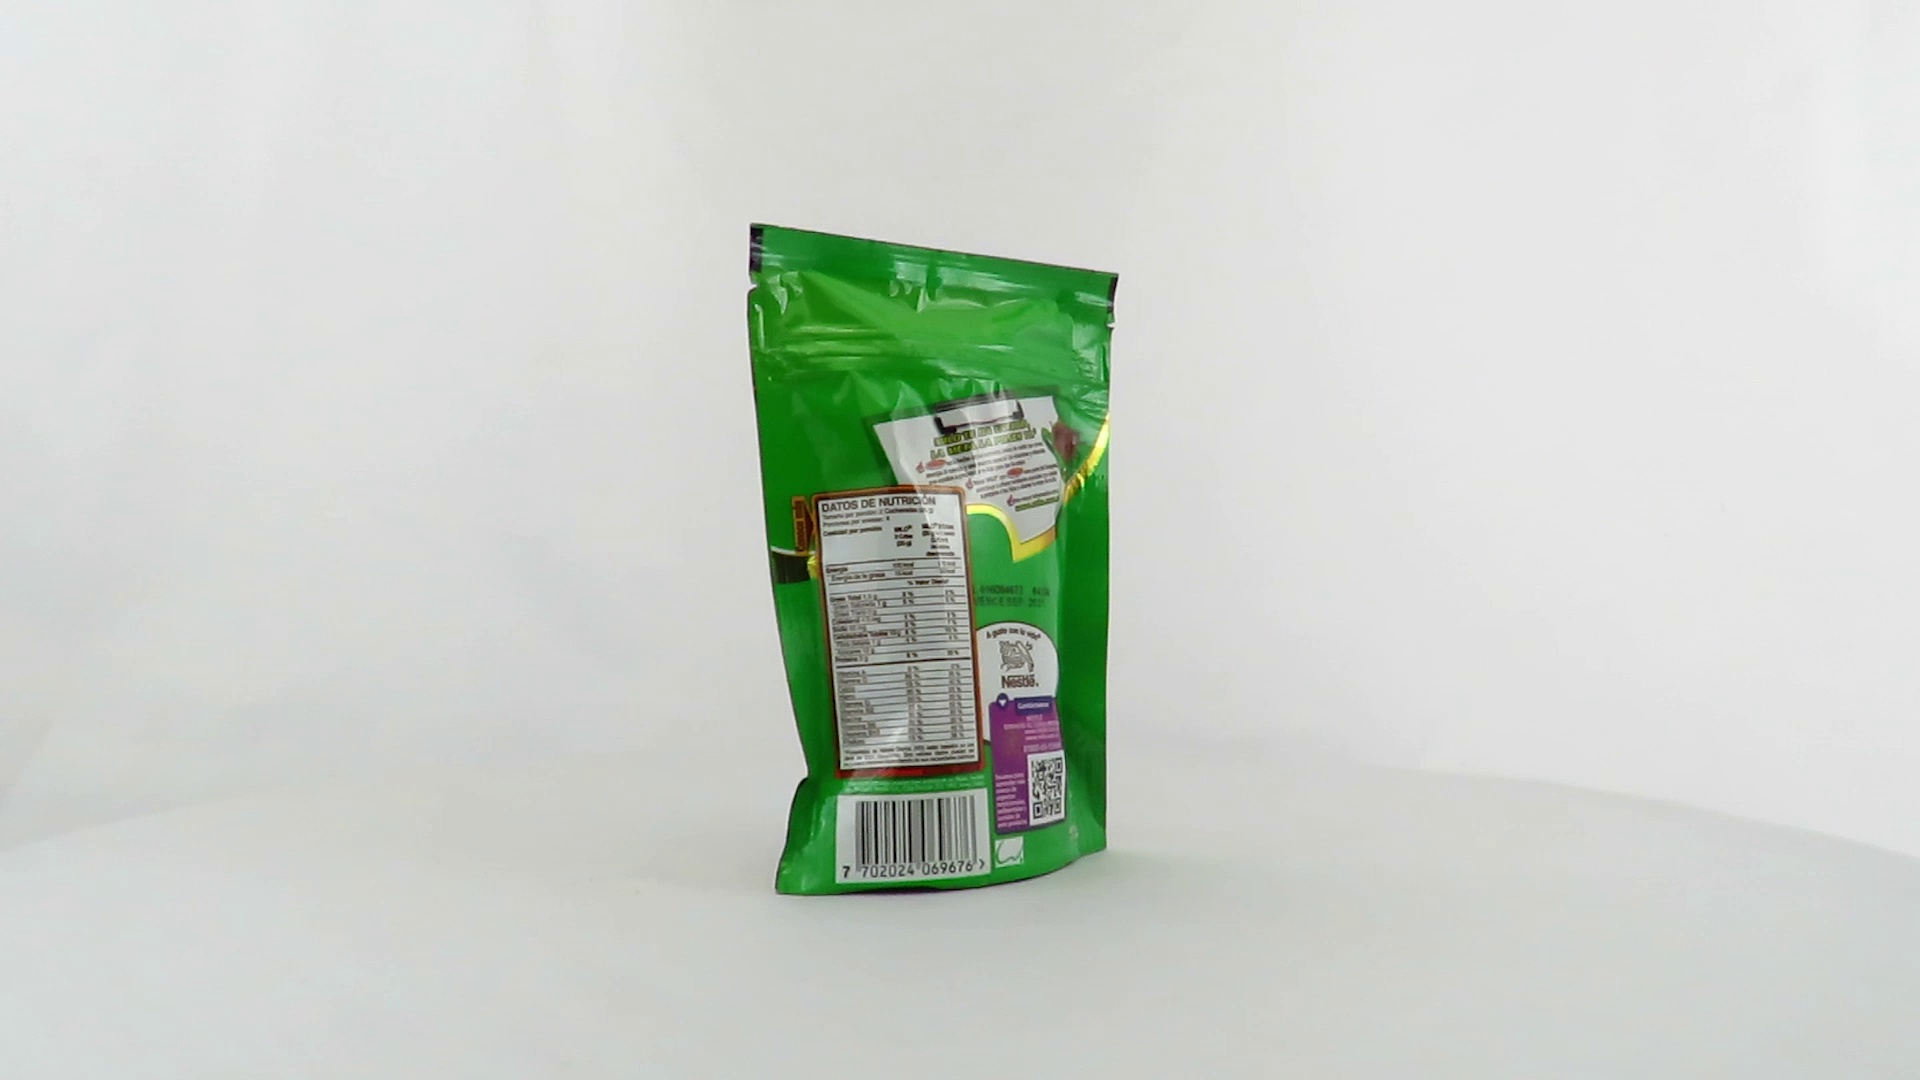COL0170203DYP10000: (742, 218, 1125, 903)
